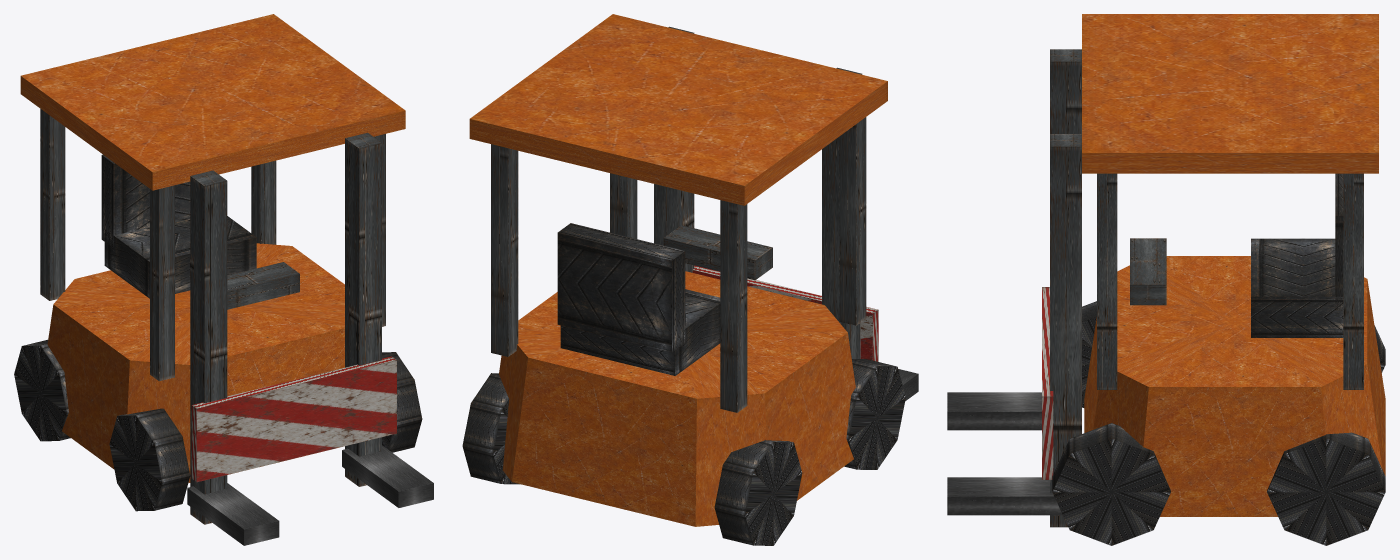
File: forklift.obj
3 renders of one model, left to right at view 1: azimuth 30°, elevation 25°; view 2: azimuth 150°, elevation 25°; view 3: azimuth 270°, elevation 25°, orthographic. The views are drawn at different scales.
Visible parts, largest first — view 1: forklift; view 2: forklift; view 3: forklift.
Boxes of the visible parts, x1,y1,x2,y2 form: forklift: [14, 14, 433, 545]; forklift: [462, 14, 918, 545]; forklift: [947, 14, 1385, 545].
Size of the model in its own units: 0.74 by 0.955 by 0.96.
2 materials, 2 textured.
